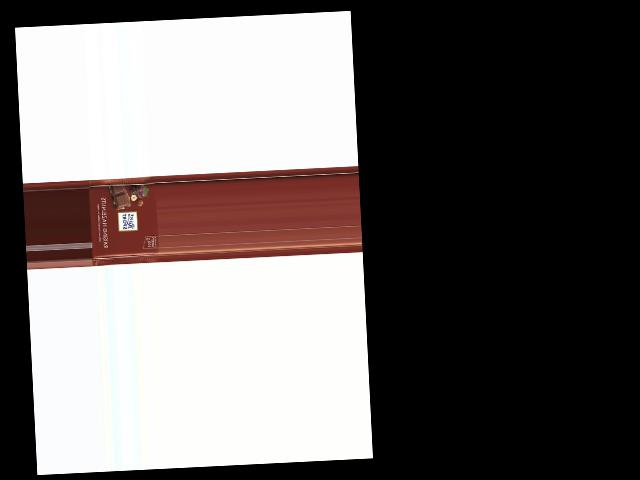chocolate: (87, 174, 159, 266)
